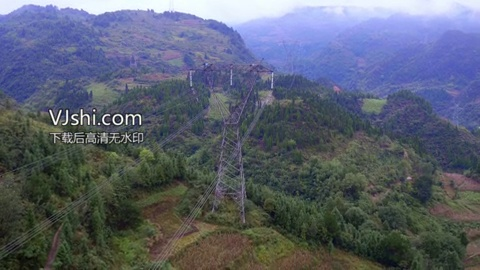tower_body: (184, 57, 279, 230)
tower_foot: (211, 184, 253, 225)
tower_head: (186, 60, 276, 127)
